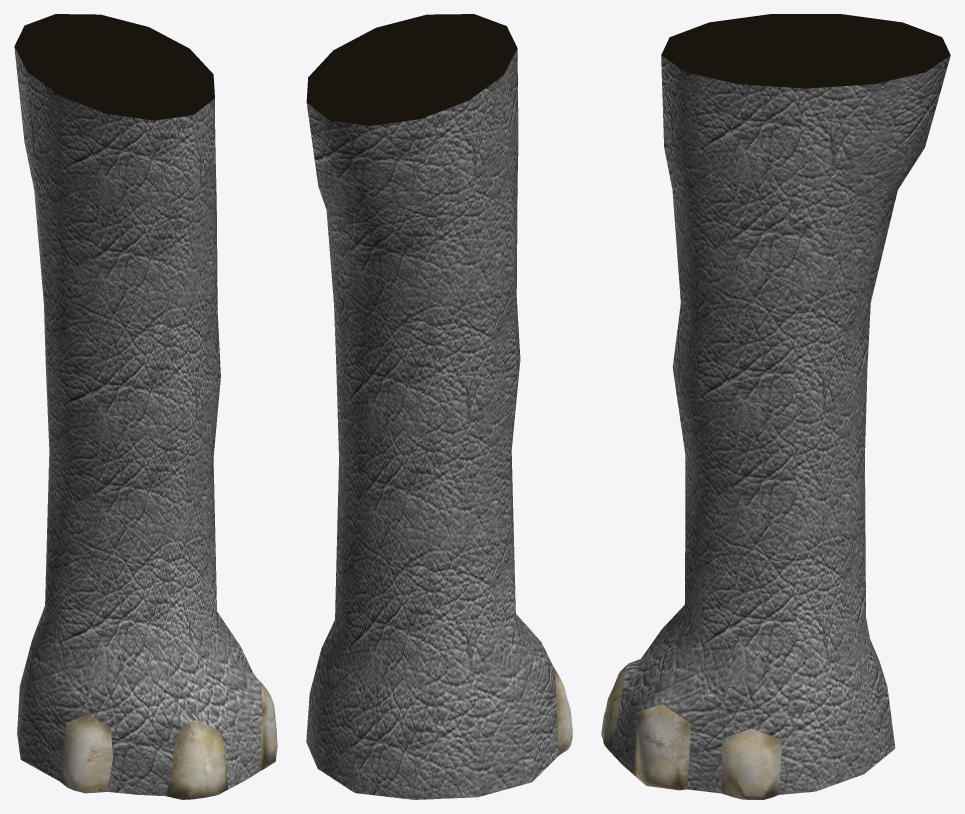
Rendered from elephant_foot.FBX.
The picture shows the model from 3 angles, left to right: view 1: azimuth 30°, elevation 25°; view 2: azimuth 150°, elevation 25°; view 3: azimuth 270°, elevation 25°; orthographic projection. The views are drawn at different scales.
Parts seen in each view (by area): view 1: Cylinder001; view 2: Cylinder001; view 3: Cylinder001.
Boxes of the visible parts, x1,y1,x2,y2 form: Cylinder001: (14,14,277,799); Cylinder001: (306,14,572,799); Cylinder001: (601,14,950,799).
Size of the model in its own units: 51.28 by 148 by 67.96.
1 material, 1 textured.
